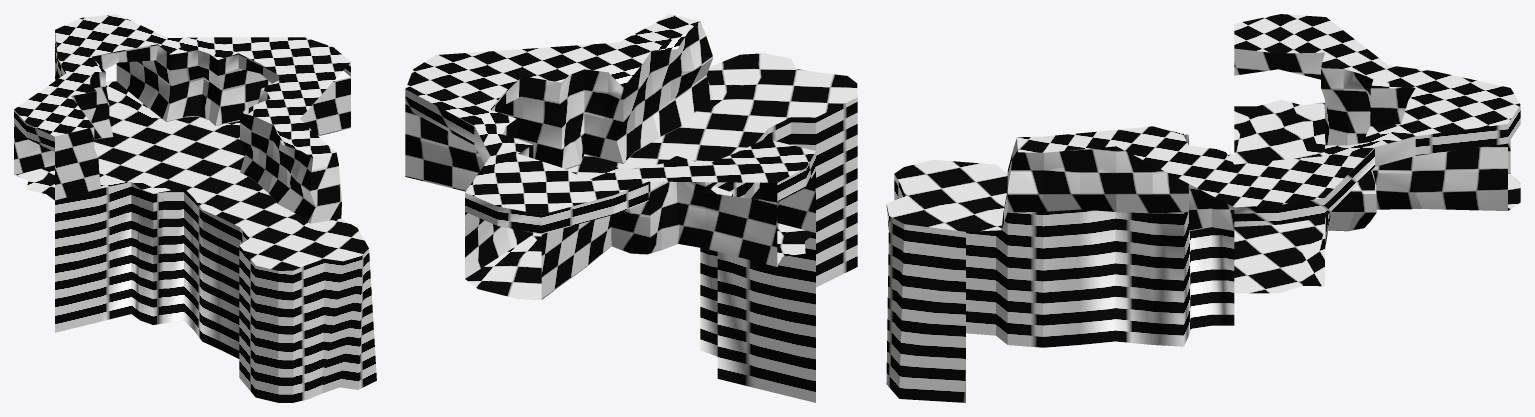
File: puzzlefinal.fbx
The picture shows the model from 3 angles, left to right: view 1: azimuth 30°, elevation 25°; view 2: azimuth 150°, elevation 25°; view 3: azimuth 270°, elevation 25°; orthographic projection. The views are drawn at different scales.
Parts seen in each view (by area): view 1: FinalPuzzle; view 2: FinalPuzzle; view 3: FinalPuzzle.
Boxes of the visible parts, x1,y1,x2,y2 form: FinalPuzzle: (14,14,376,402); FinalPuzzle: (405,14,857,402); FinalPuzzle: (886,14,1520,402).
Size of the model in its own units: 4036 by 5593 by 2569.
